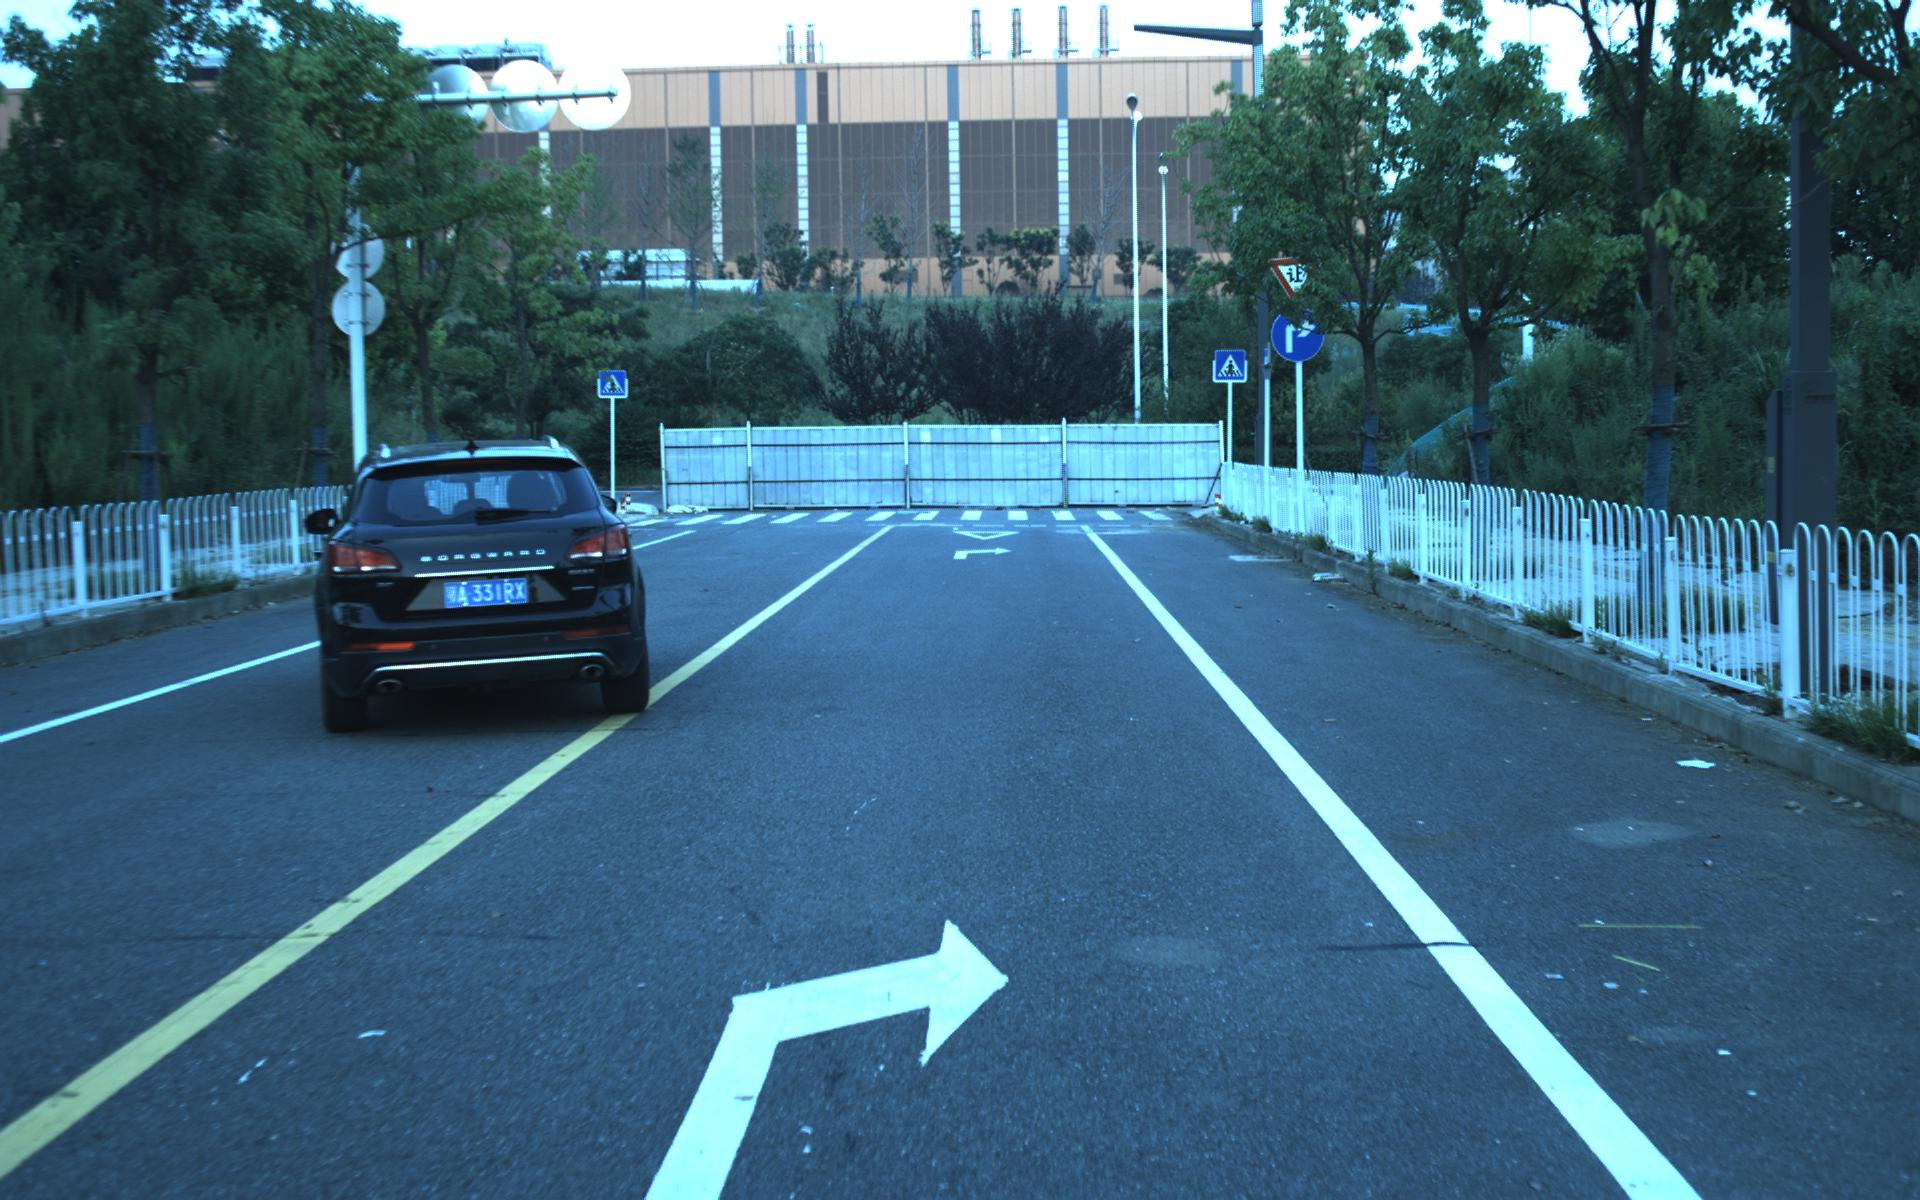Car: (304, 433, 659, 737)
